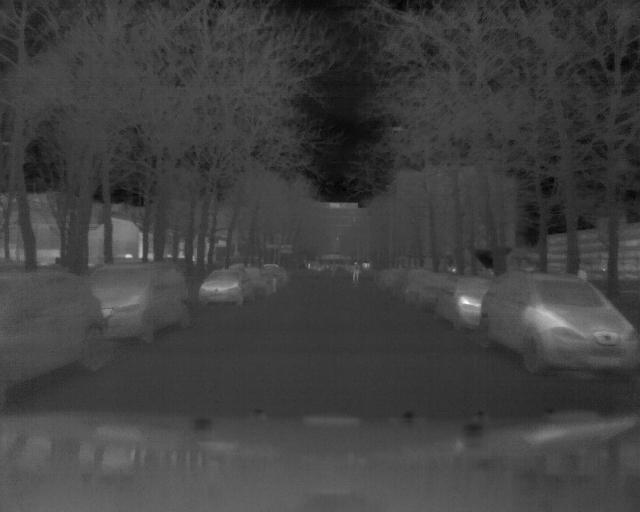car: (480, 265, 640, 380), (1, 269, 108, 395), (78, 262, 194, 345), (435, 271, 499, 331), (197, 266, 255, 306), (402, 267, 457, 308)
person: (349, 259, 362, 284)
